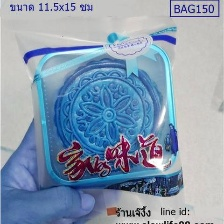snack: (6, 13, 191, 211)
